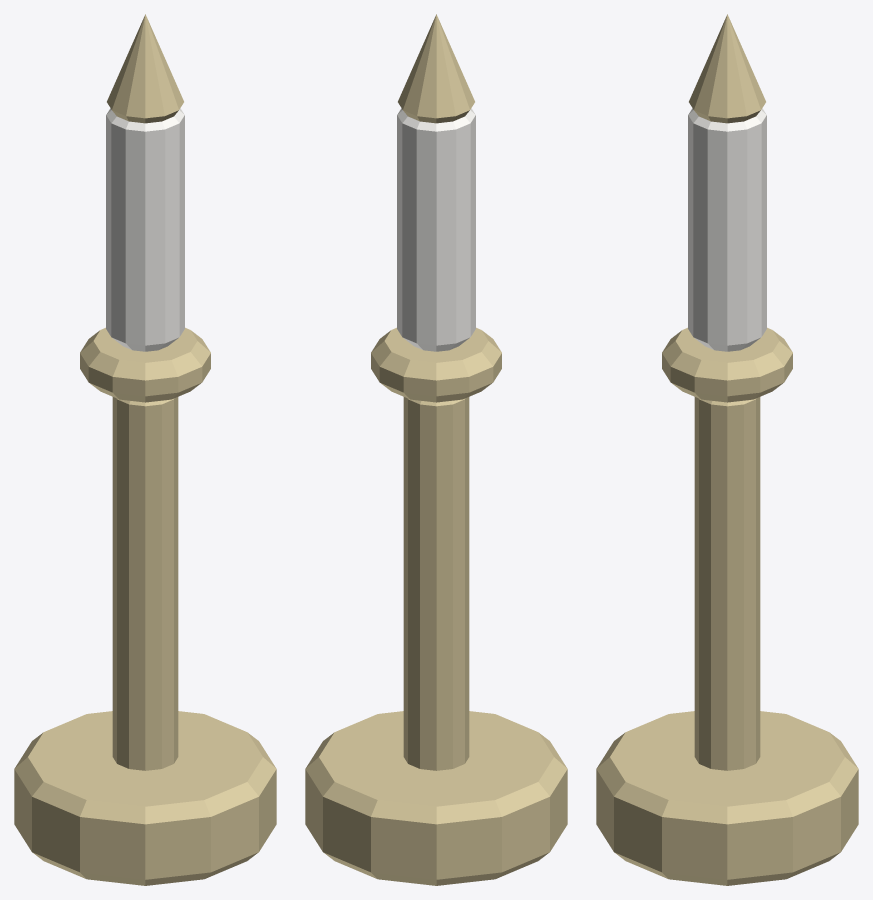
The model's file is SM_Candlestick.fbx.
The picture shows the model from 3 angles, left to right: view 1: azimuth 30°, elevation 25°; view 2: azimuth 150°, elevation 25°; view 3: azimuth 270°, elevation 25°; orthographic projection.
Visible parts, largest first — view 1: Candlestick; view 2: Candlestick; view 3: Candlestick.
Part boxes in pixels (bbox=[...]): Candlestick: bbox=[14, 14, 276, 885]; Candlestick: bbox=[305, 14, 567, 885]; Candlestick: bbox=[596, 14, 858, 885].
Bounding box in the file's own units: 12 × 41.5 × 12.
